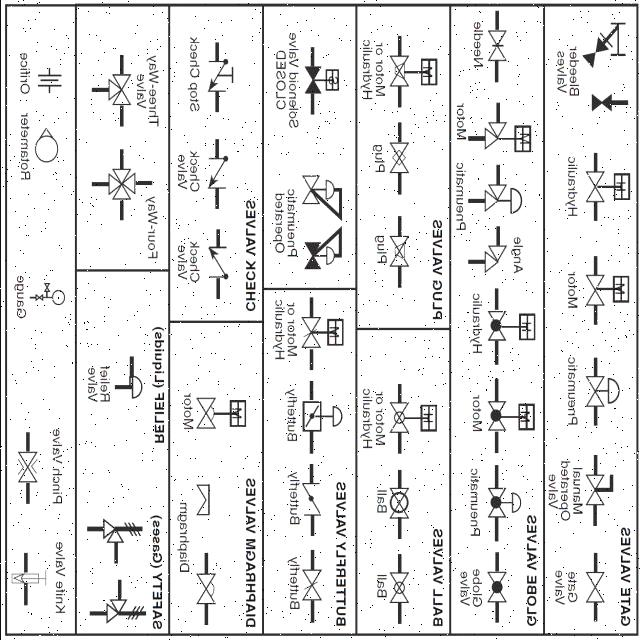3 Way Gate Valve: (103, 61, 133, 112)
4 Way Gate Valve: (99, 150, 139, 210)
Angle Valve: (476, 236, 508, 276)
BackPressure Regulator: (298, 222, 346, 277)
Ball Valve: (384, 473, 417, 534), (387, 568, 413, 608)
Bleeder Valve: (582, 18, 627, 73), (587, 87, 629, 120)
Butterfly Valve: (304, 471, 326, 538), (300, 561, 324, 610)
Check Valve: (205, 152, 238, 214), (202, 232, 232, 284)
Cock Valve: (582, 462, 618, 516)
Diaphragm Valve: (195, 468, 220, 538), (190, 564, 222, 606)
Gate Valve: (578, 566, 608, 608)
Gauge: (30, 266, 68, 327)
Globe Valve: (484, 559, 511, 617)
Hydraulic Operated Ball Valve: (386, 390, 440, 450)
Hydraulic Operated Gate Valve: (582, 162, 632, 208)
Hydraulic Operated Globe Valve: (486, 296, 539, 356)
Knife Valve: (5, 564, 49, 604)
Motor Operated Angle Valve: (472, 102, 538, 162)
Motor Operated Butterfly Valve: (294, 304, 348, 356)
Motor Operated Diaphragm Valve: (190, 381, 254, 454)
Motor Operated Gate Valve: (582, 265, 630, 314)
Motor Operated Globe Valve: (480, 391, 540, 447)
Motor Operated Plug Valve: (388, 52, 440, 88)
Needle Valve: (484, 21, 512, 68)
Orifice: (33, 60, 70, 94)
PRV: (114, 341, 146, 426)
PSV: (88, 491, 146, 560), (86, 576, 134, 632)
Pinch Valve: (11, 436, 44, 502)
Plug Valve: (385, 128, 418, 180), (383, 226, 412, 274)
Pneumatic-Diaphragm Angle Valve: (471, 170, 532, 218)
Pneumatic-Diaphragm Butterfly Valve: (298, 389, 342, 443)
Pneumatic-Diaphragm Gate Valve: (585, 366, 623, 412)
Pneumatic-Diaphragm Globe Valve: (487, 474, 521, 528)
Pressure Regulator: (296, 166, 349, 223)
Rotameter: (27, 118, 67, 168)
Solenoid Closed Valve: (302, 56, 344, 104)
Stop Valve: (201, 34, 249, 112)
